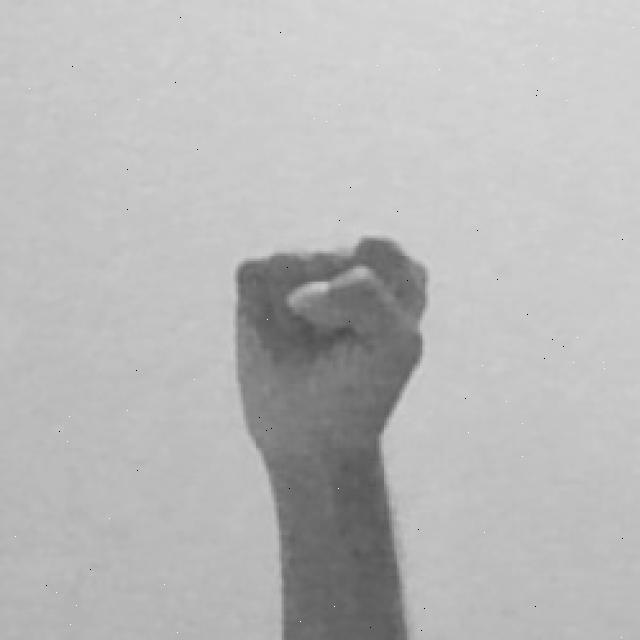S: (224, 229, 441, 640)
